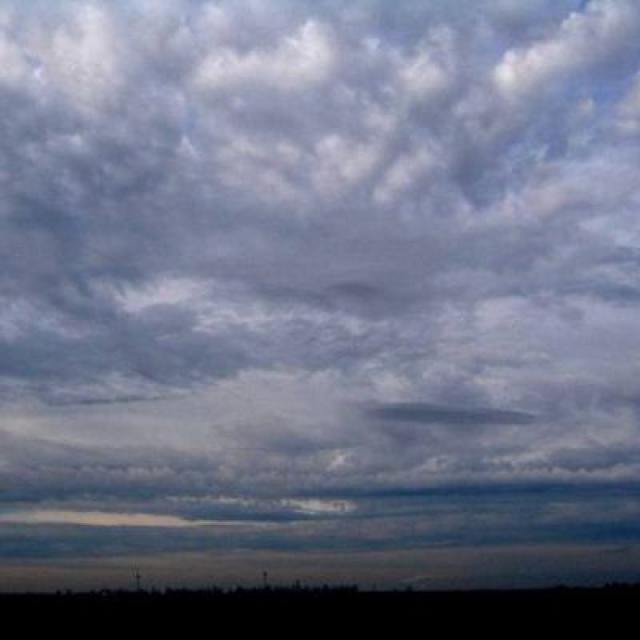Ac: (8, 17, 637, 434)
